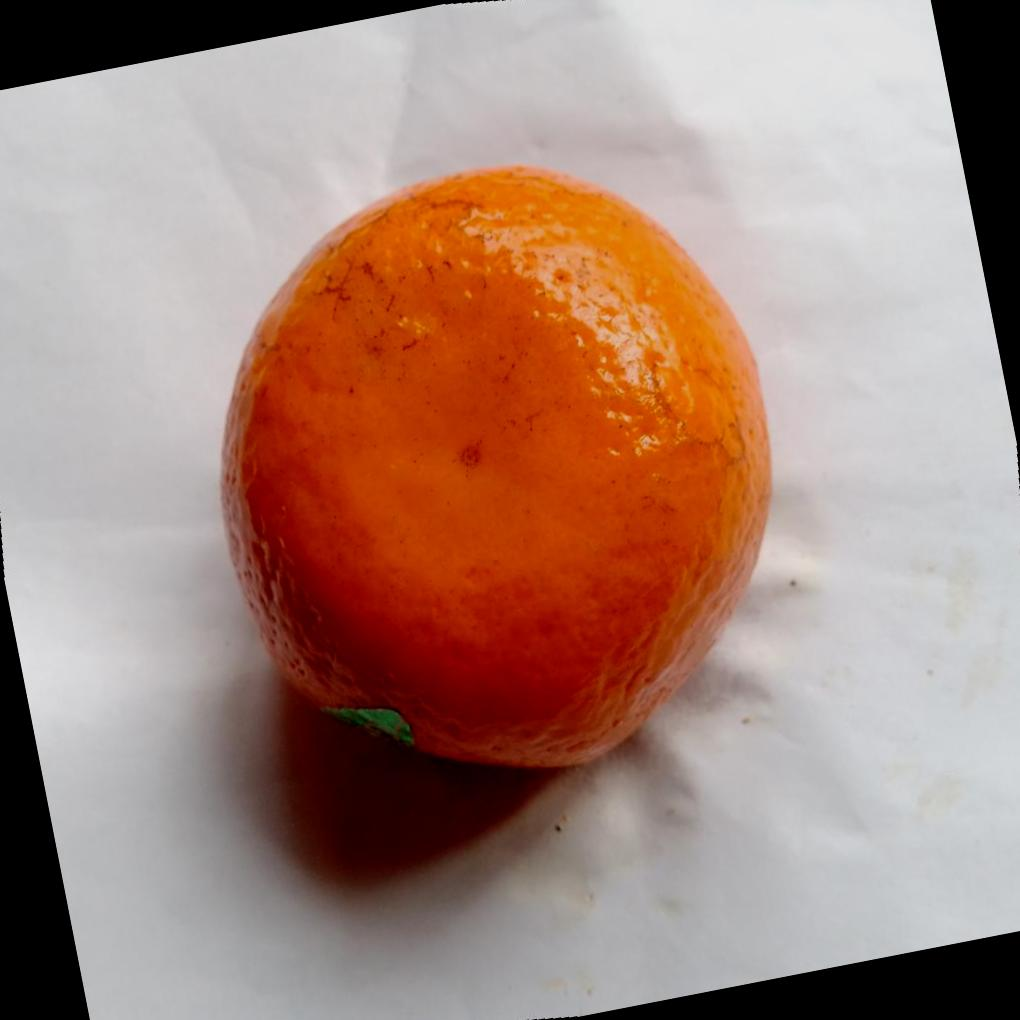FreshOrange: (219, 165, 774, 774)
